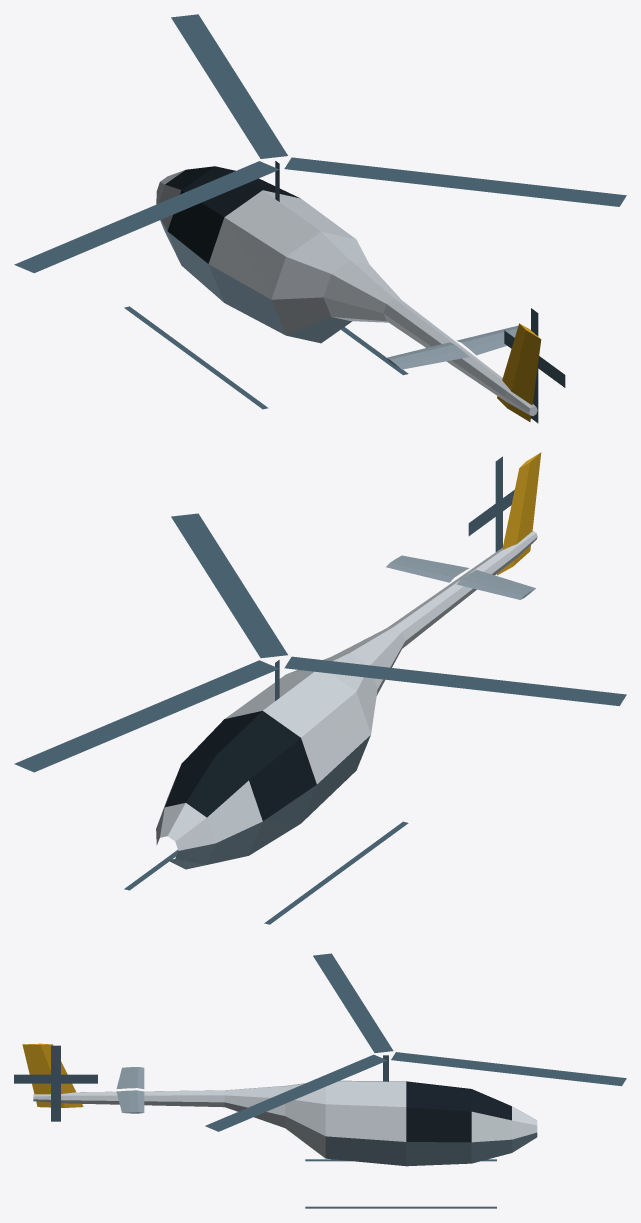
The picture shows the model from 3 angles, top to bottom: view 1: azimuth 30°, elevation 25°; view 2: azimuth 150°, elevation 25°; view 3: azimuth 270°, elevation 25°; orthographic projection. The views are drawn at different scales.
Parts seen in each view (by area): view 1: lod0; view 2: lod0; view 3: lod0.
Boxes of the visible parts, box(x1,y1,x2,y2) form: lod0: box(14, 14, 626, 423); lod0: box(14, 452, 626, 924); lod0: box(14, 953, 626, 1208).
Size of what is drawn, in the model's own units: 0.8378 by 0.3156 by 1.22.
